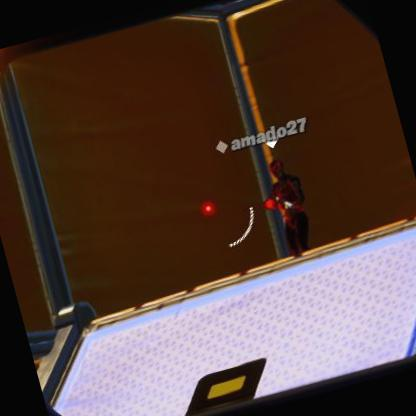person: (255, 153, 320, 260)
